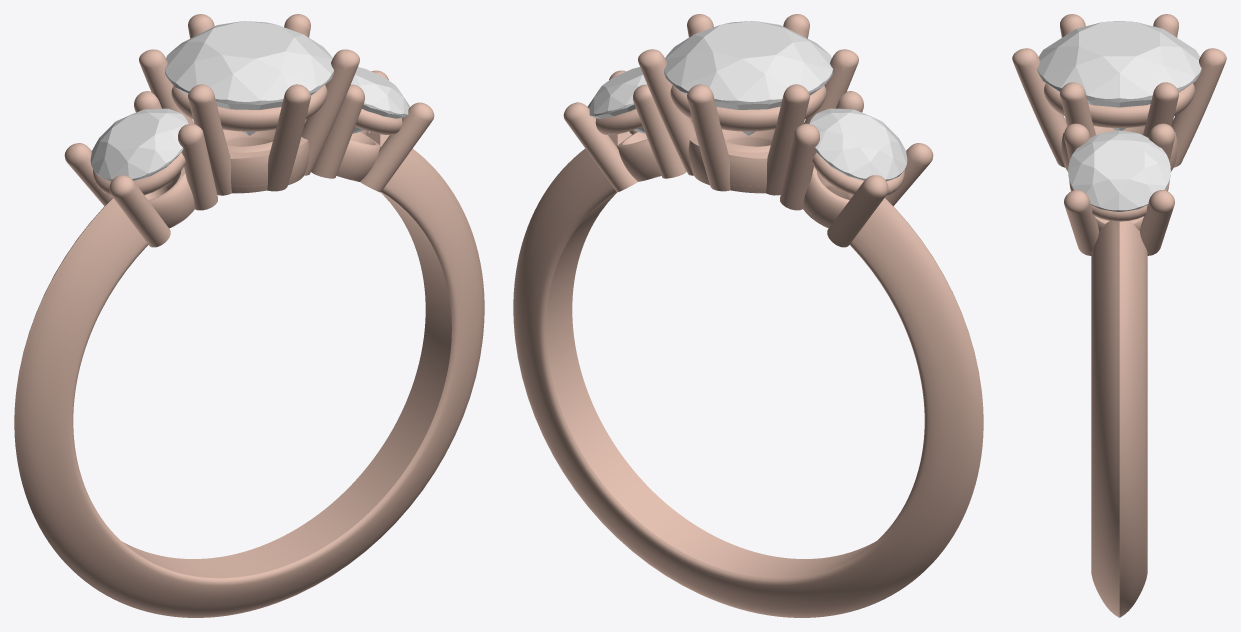
Rendered from diamond-round-rosegold-6prong-knifeedge-2stone.glb.
3 views of the same model, side by side, from view 1: azimuth 30°, elevation 25°; view 2: azimuth 150°, elevation 25°; view 3: azimuth 270°, elevation 25° (orthographic). The views are drawn at different scales.
Parts seen in each view (by area): view 1: metal, stone, side.001, side; view 2: metal, stone, side.001, side; view 3: metal, stone, side.
Part boxes in pixels (left/top/right/bottom): metal: left=14, top=14, right=484, bottom=617; stone: left=164, top=21, right=333, bottom=135; side.001: left=90, top=108, right=188, bottom=181; side: left=351, top=67, right=409, bottom=133; metal: left=513, top=14, right=983, bottom=617; stone: left=664, top=21, right=833, bottom=135; side.001: left=809, top=108, right=907, bottom=181; side: left=587, top=67, right=646, bottom=133; metal: left=1012, top=14, right=1226, bottom=617; stone: left=1037, top=21, right=1201, bottom=130; side: left=1068, top=130, right=1170, bottom=211.
Size of the model in its own units: 20.5 by 23.81 by 8.35.
